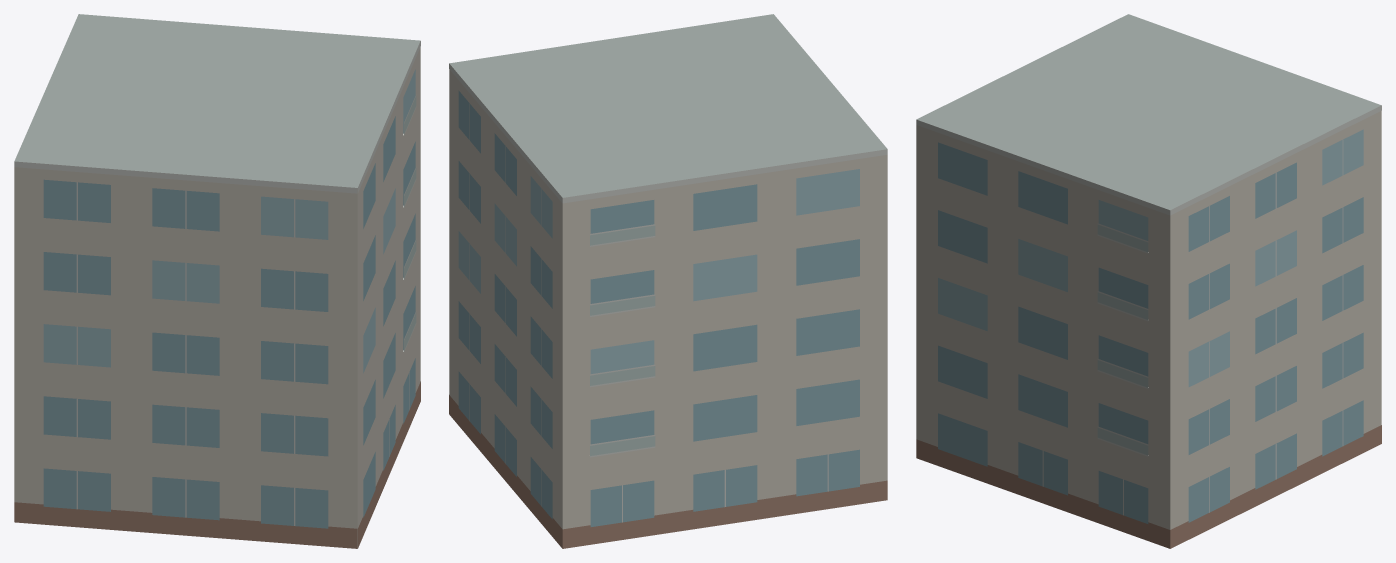
The model's file is survey-upis-32567866.glb.
3 views of the same model, side by side, from view 1: azimuth 30°, elevation 25°; view 2: azimuth 150°, elevation 25°; view 3: azimuth 270°, elevation 25° (orthographic). The views are drawn at different scales.
Visible parts, largest first — view 1: survey-upis-32567866.tmp; view 2: survey-upis-32567866.tmp; view 3: survey-upis-32567866.tmp.
Boxes of the visible parts, <box> form: survey-upis-32567866.tmp: <box>14,14,420,548</box>; survey-upis-32567866.tmp: <box>449,14,887,548</box>; survey-upis-32567866.tmp: <box>916,14,1381,548</box>.
Size of the model in its own units: 19.28 by 15.5 by 19.32.
